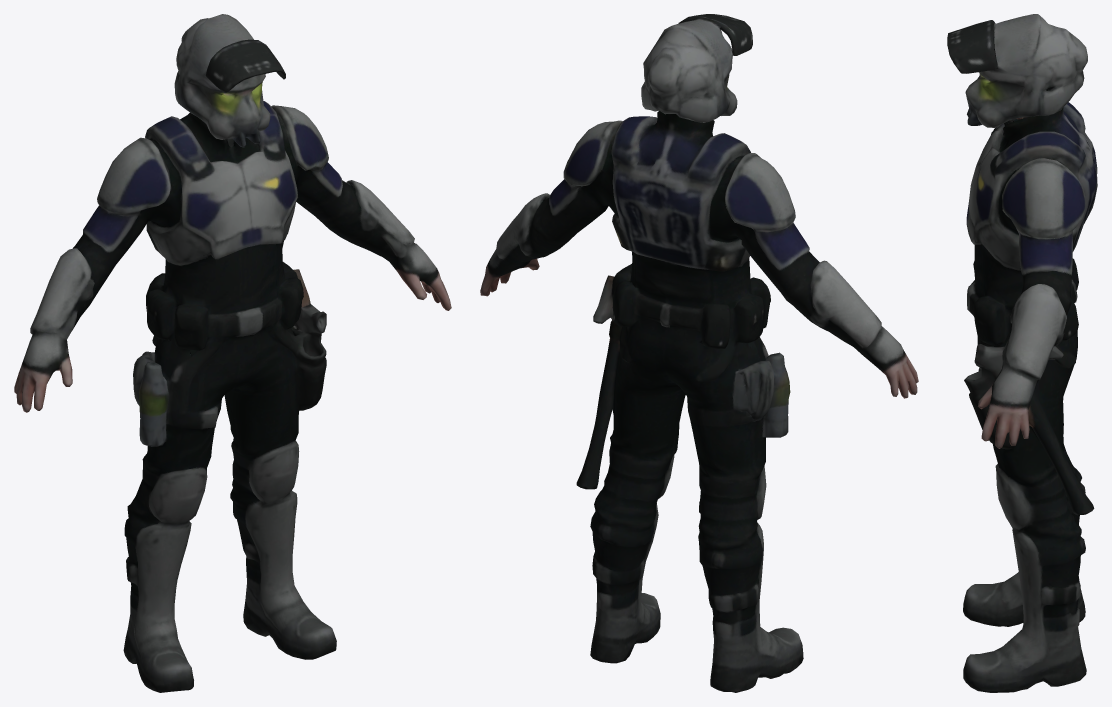
Rendered from rivet_source.glb.
3 renders of one model, left to right at view 1: azimuth 30°, elevation 25°; view 2: azimuth 150°, elevation 25°; view 3: azimuth 270°, elevation 25°, orthographic.
Parts seen in each view (by area): view 1: world; view 2: world; view 3: world.
Boxes of the visible parts, bbox=[...] form: world: bbox=[14, 14, 451, 692]; world: bbox=[480, 14, 918, 692]; world: bbox=[947, 14, 1097, 692].
Size of the model in its own units: 0.7033 by 1 by 0.2152.
Materials: 1 (1 with a texture image).
